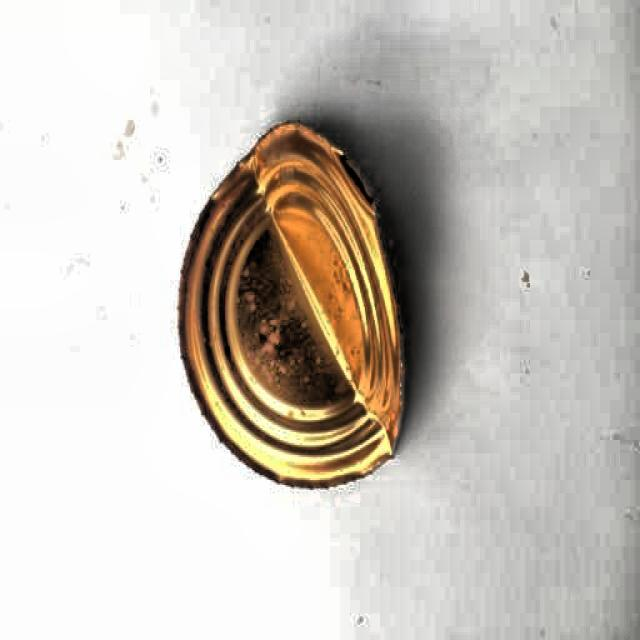metal: (172, 116, 421, 495)
